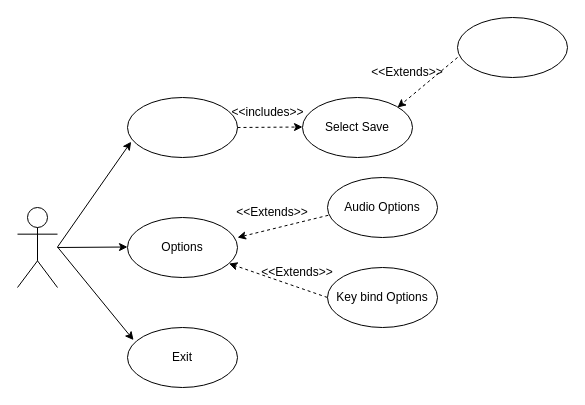
The diagram is 585 pixels wide and 405 high, and some of its shapes have lost their labels. Each missing label, with the centre of its shape:
New Game: (512,47)
Play Game: (182,127)
Player: (37,247)
